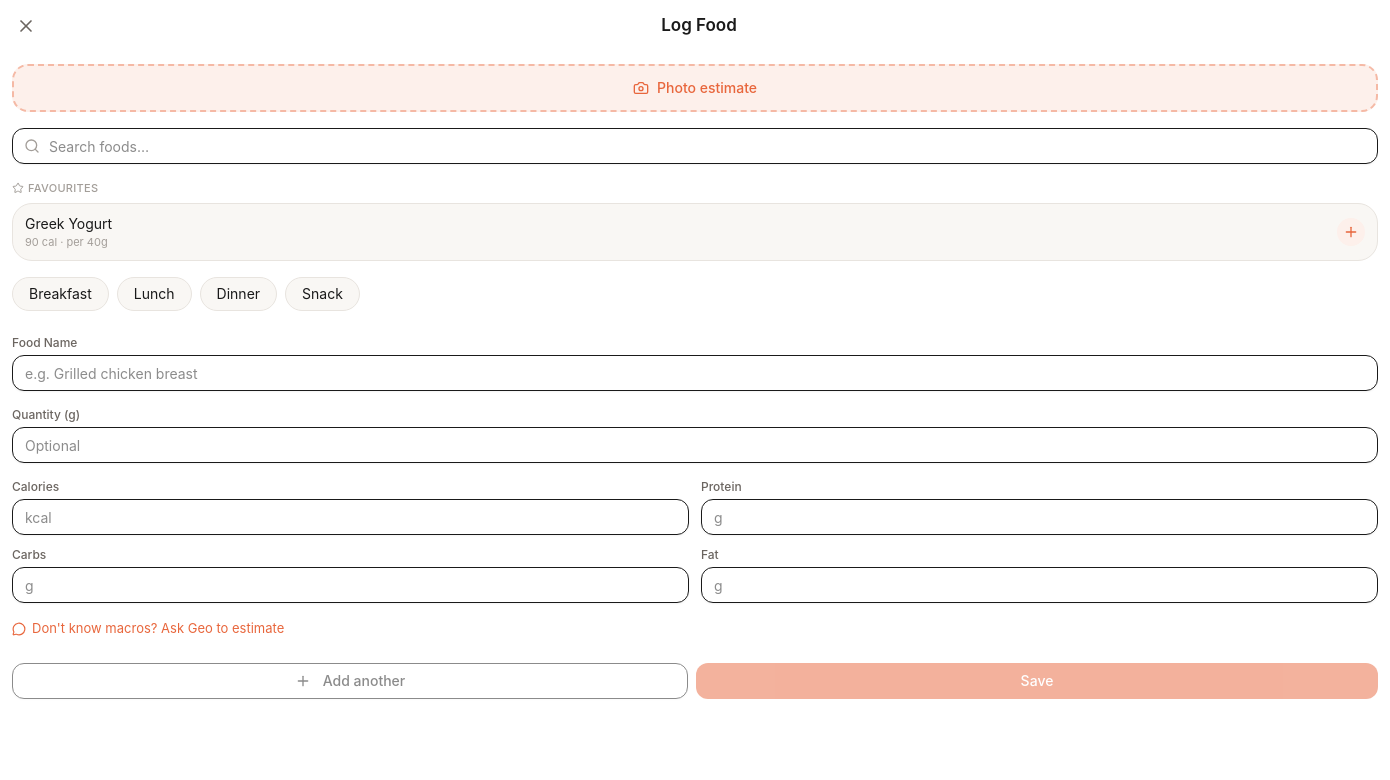
Test: FoodLogForm — R6-12 full-page logging (favourites/recents-first) › tapping a saved food prefills the form
The image size is (1390, 780).
Click the text "Greek Yogurt" at (69, 223), box [25,214,112,232]
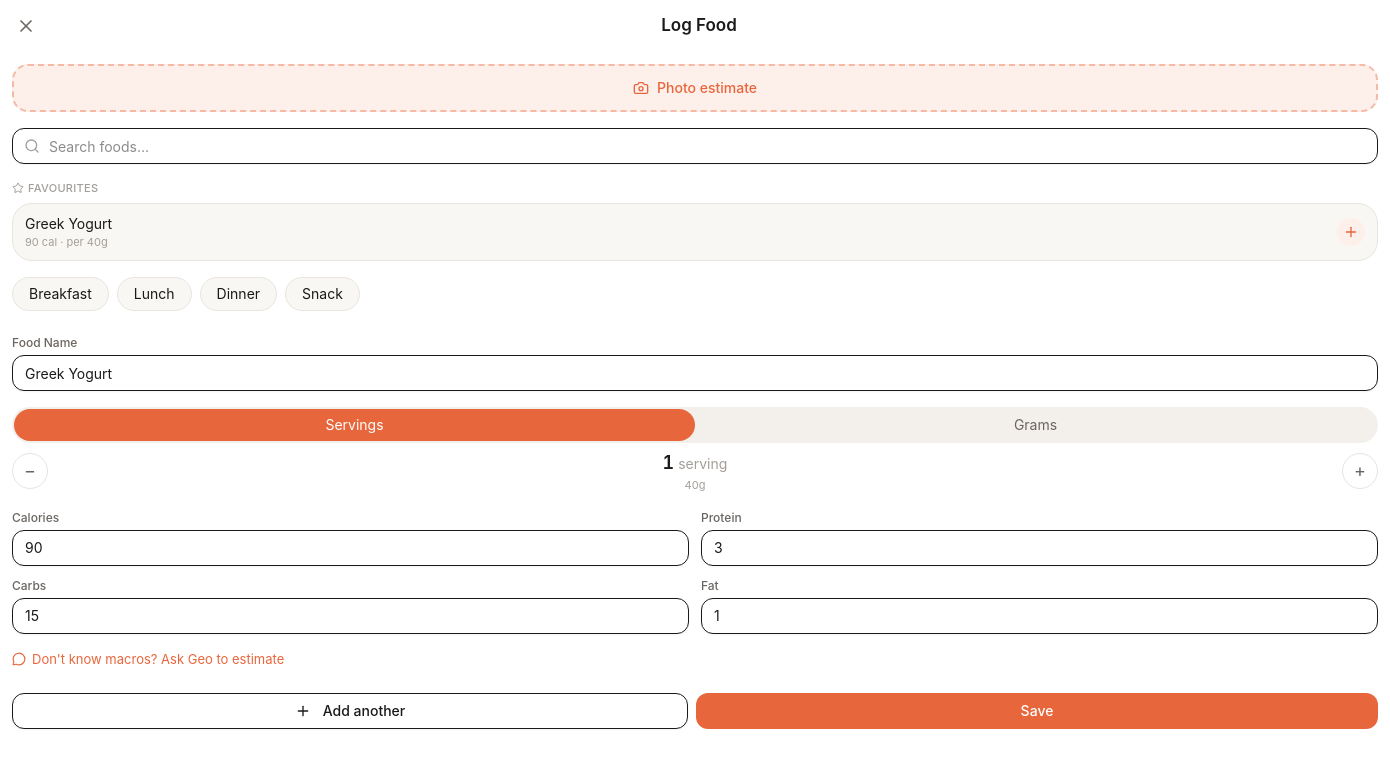
expect the field showing "Greek Yogurt" is shown: met, box [12,355,1378,391]
